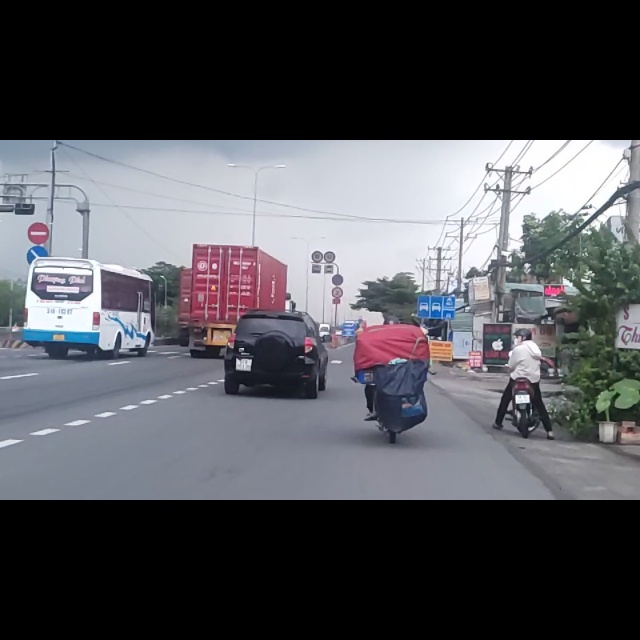bien_cam: (418, 275, 456, 318), (27, 145, 50, 186), (331, 238, 343, 260)
